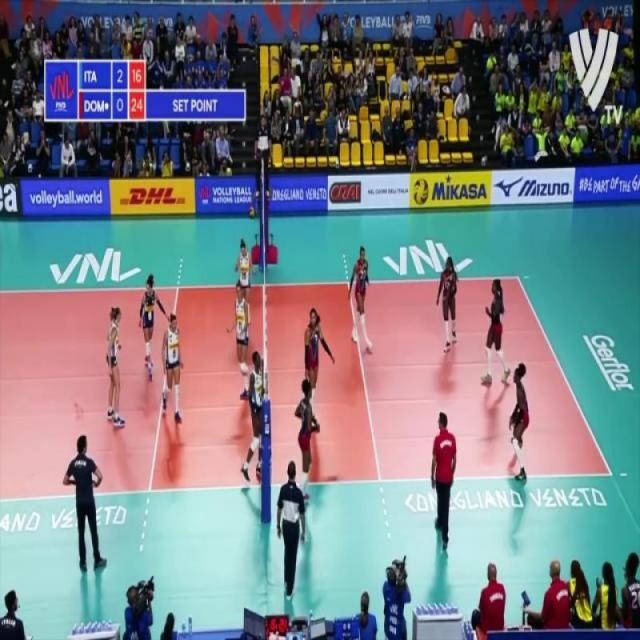volleyball: (413, 175, 430, 206), (249, 206, 255, 221)
